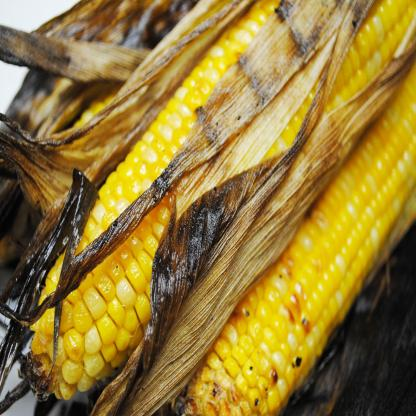---: (13, 0, 416, 396)
